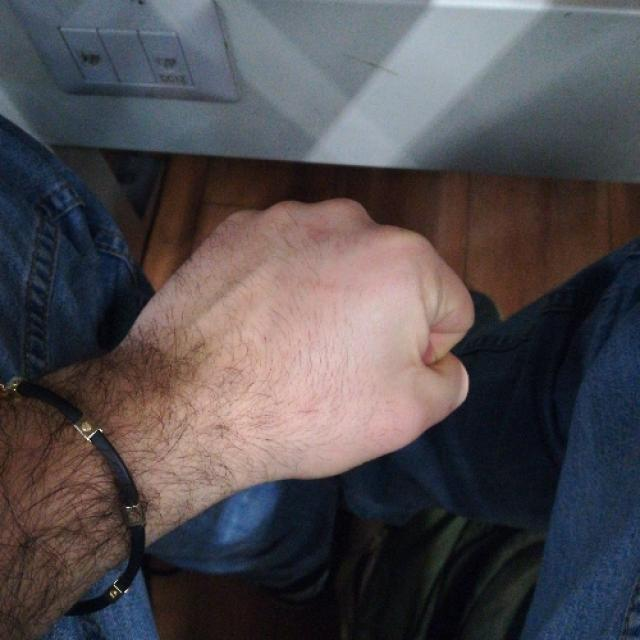fist: (141, 196, 476, 479)
